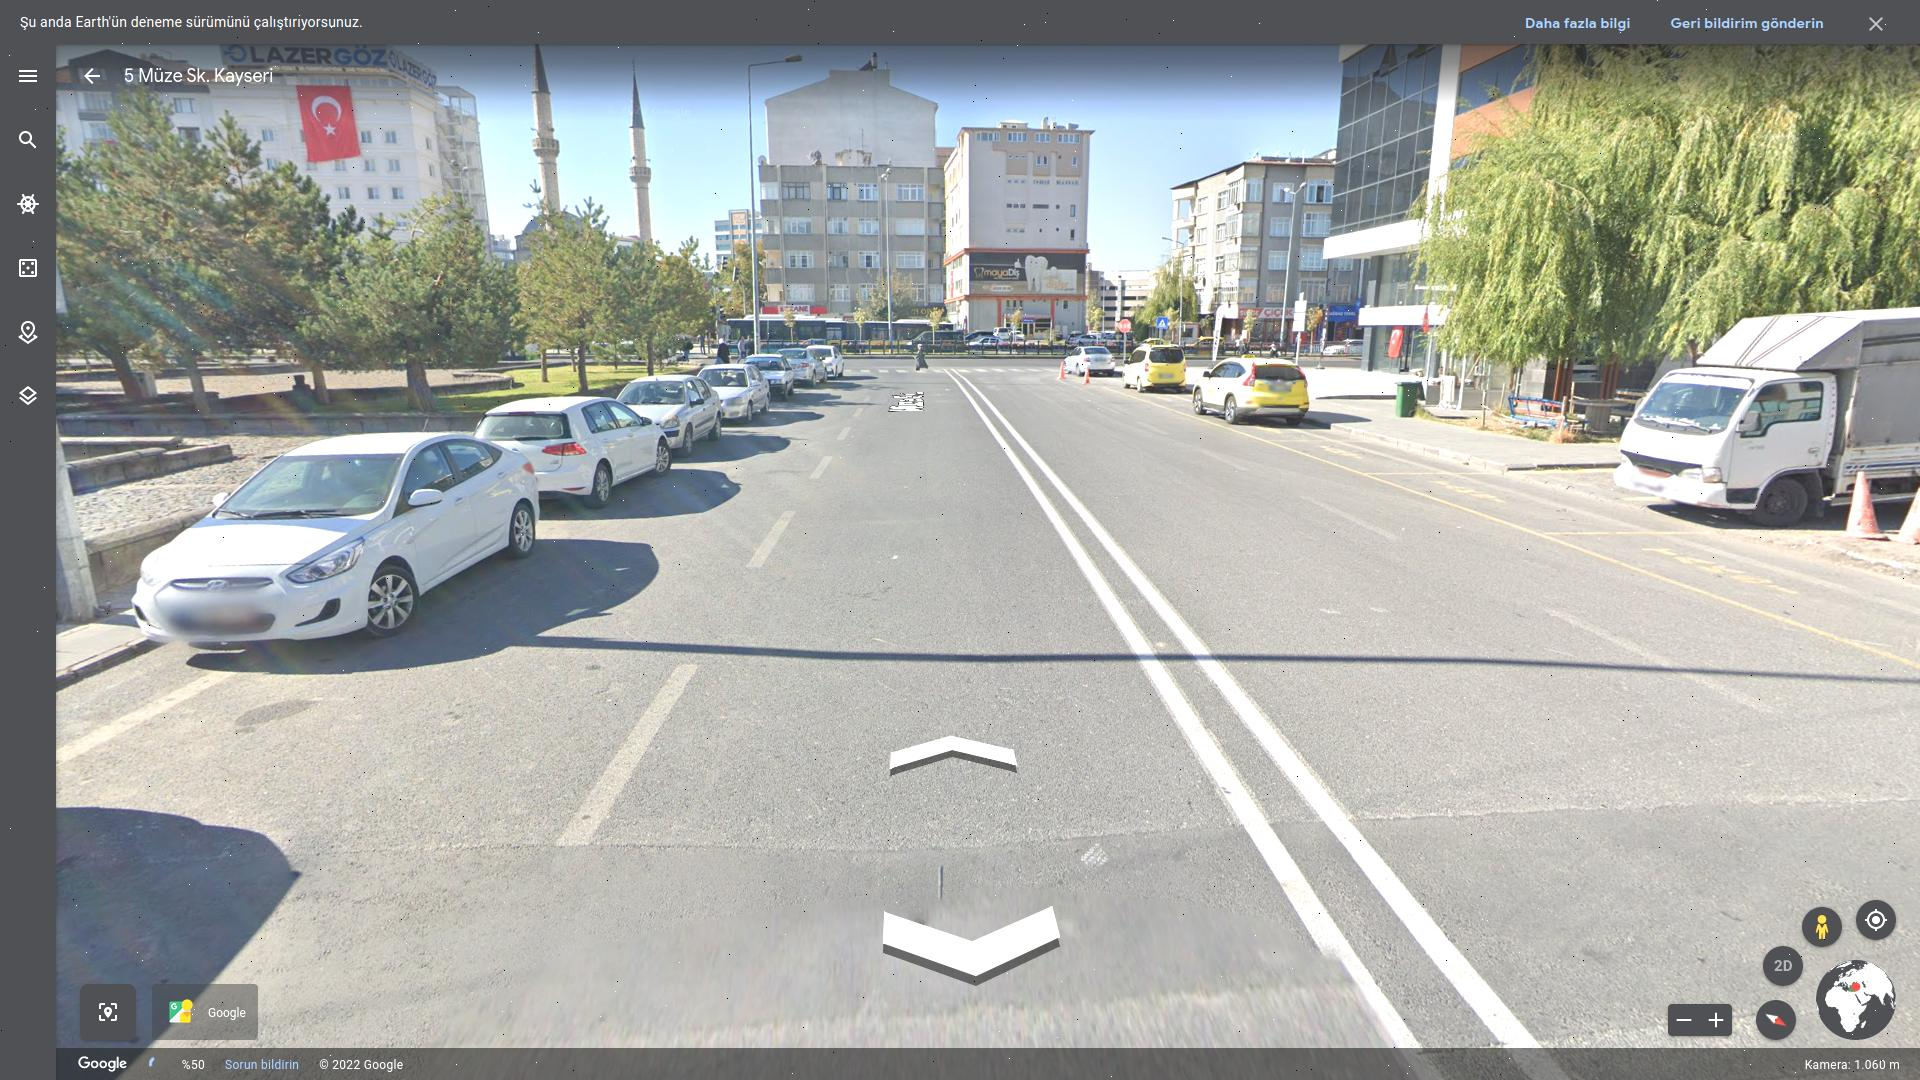stop: (1117, 319, 1131, 334)
